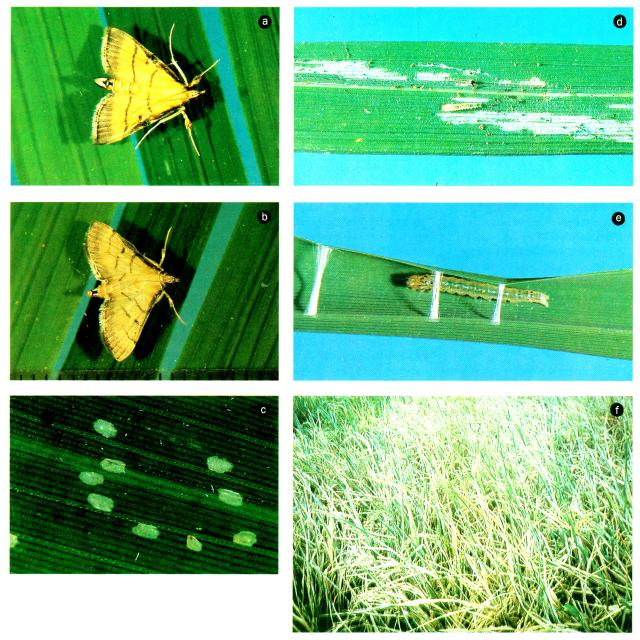rice leaf roller -penggulung daun padi-: (89, 22, 222, 158), (82, 219, 187, 363)
